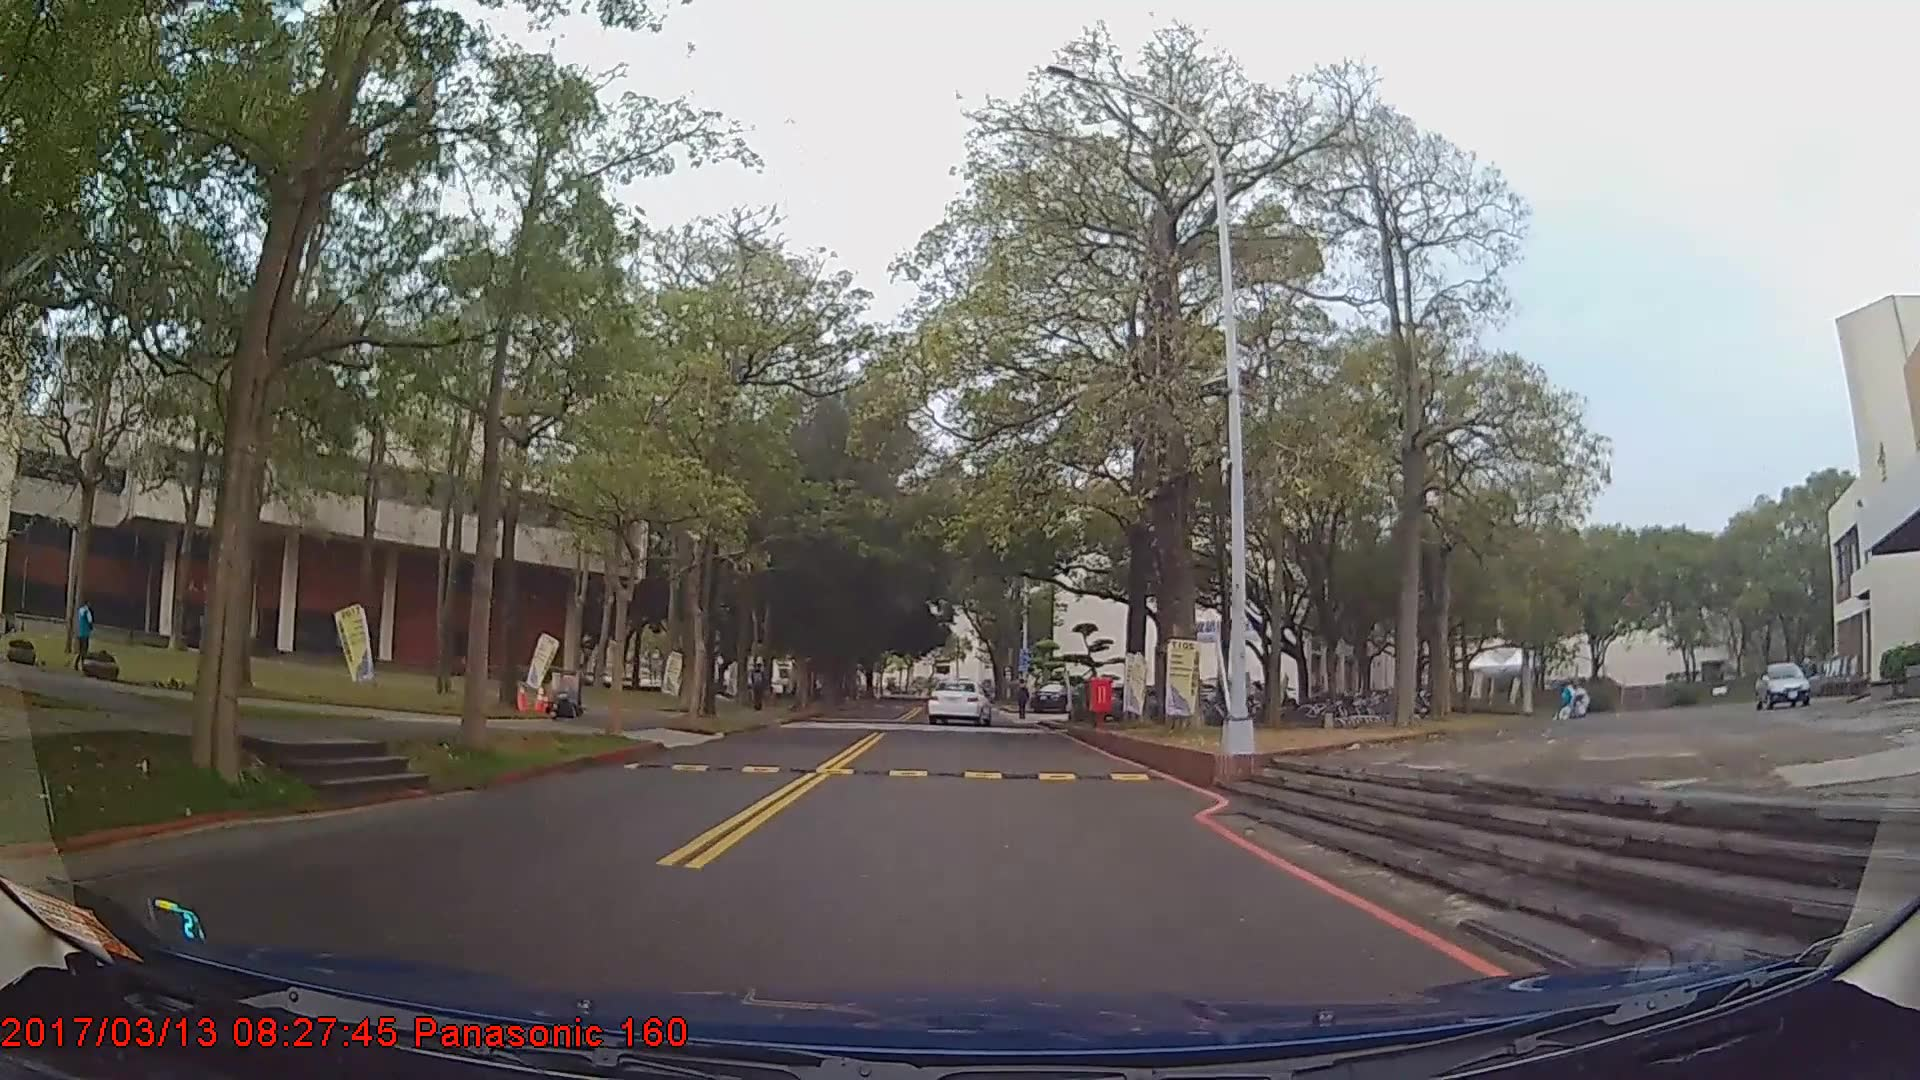pedestrian: (73, 600, 98, 677), (748, 665, 771, 715)
vehicle: (1753, 658, 1825, 710), (927, 679, 992, 726)
